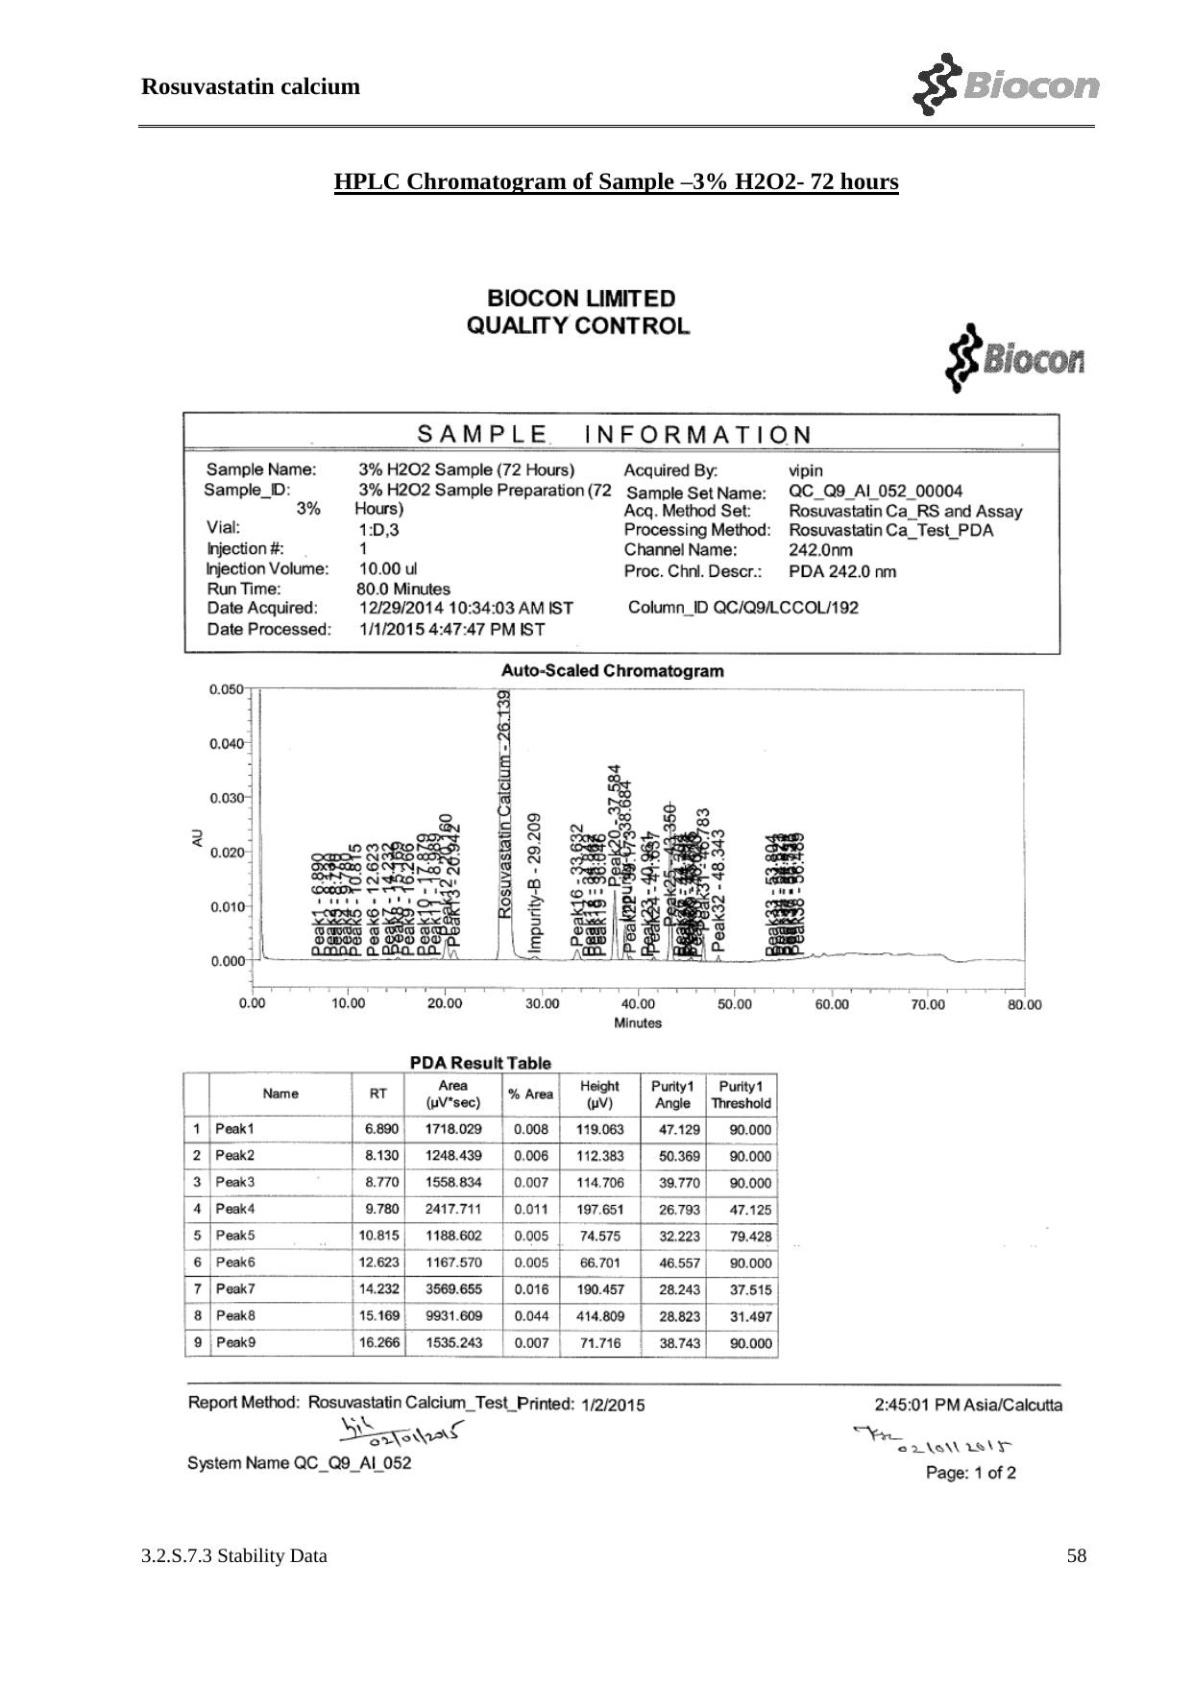full_lined: (181, 1070, 780, 1360)
partial_lined_merged_cells: (182, 409, 1063, 658)
